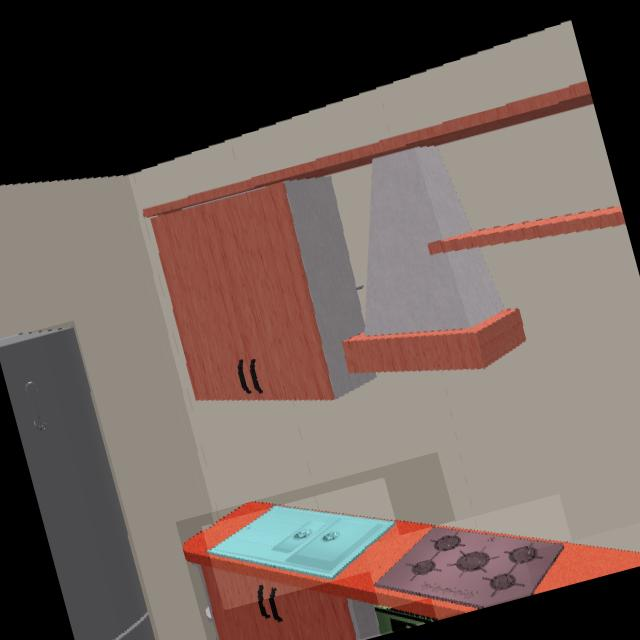countertop: (183, 501, 477, 620), (535, 544, 640, 593)
fridge: (0, 326, 156, 640)
oven: (377, 612, 434, 634)
sink: (209, 506, 396, 582)
stove: (375, 527, 574, 610)
